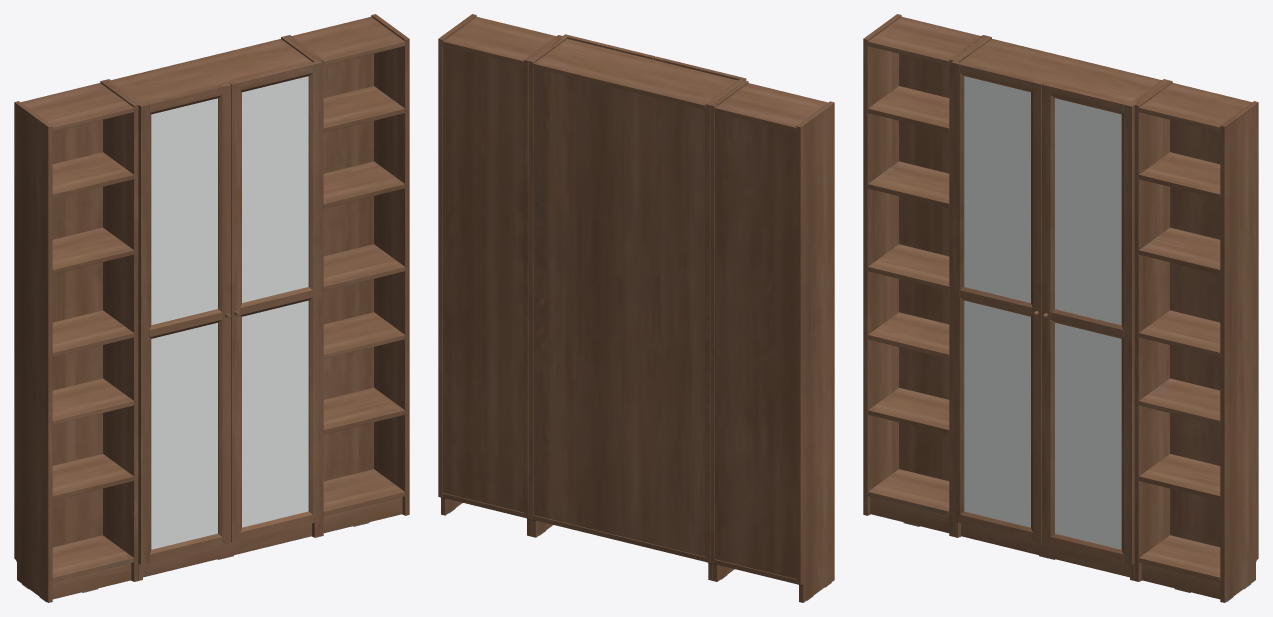
3 renders of one model, left to right at view 1: azimuth 30°, elevation 25°; view 2: azimuth 150°, elevation 25°; view 3: azimuth 330°, elevation 25°, orthographic.
Parts seen in each view (by area): view 1: Mesh_1, Mesh_0; view 2: Mesh_1; view 3: Mesh_1, Mesh_0.
Boxes of the visible parts, <box> form: Mesh_1: <box>14,14,409,602</box>; Mesh_0: <box>151,76,308,549</box>; Mesh_1: <box>438,14,834,602</box>; Mesh_1: <box>863,14,1258,602</box>; Mesh_0: <box>964,76,1121,549</box>.
Size of the model in its own units: 1.6 by 2.02 by 0.3.
Materials: 2 (1 with a texture image).
